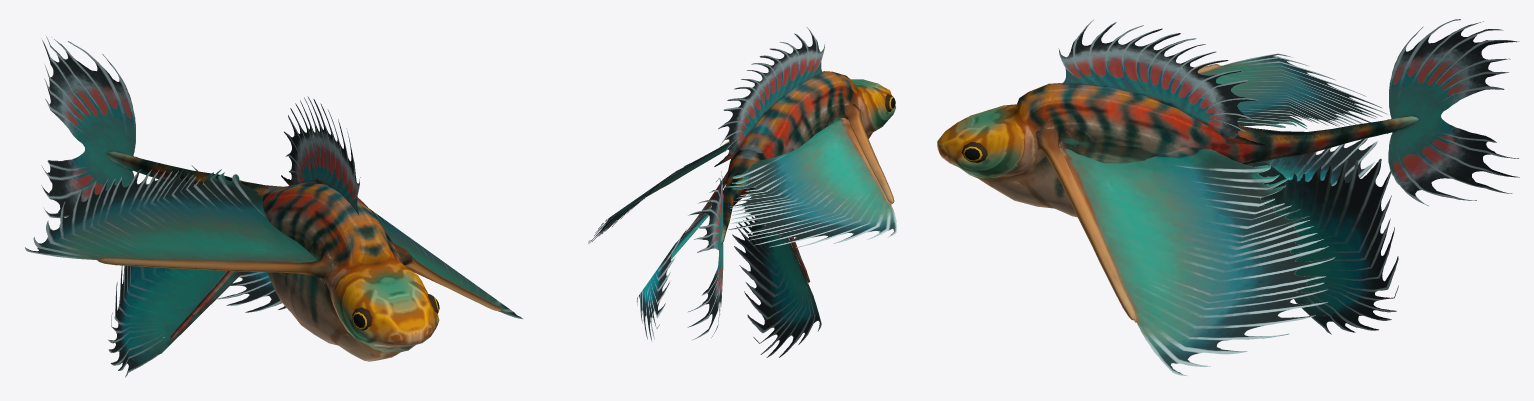
File: fish_000013.obj
3 views of the same model, side by side, from view 1: azimuth 30°, elevation 25°; view 2: azimuth 150°, elevation 25°; view 3: azimuth 270°, elevation 25° (orthographic). The views are drawn at different scales.
Visible parts, largest first — view 1: flyingFish_low_StingrayPBS1_0; view 2: flyingFish_low_StingrayPBS1_0; view 3: flyingFish_low_StingrayPBS1_0.
Part boxes in pixels (box(x1,y1,x2,y2)): flyingFish_low_StingrayPBS1_0: box(25, 35, 522, 377); flyingFish_low_StingrayPBS1_0: box(588, 27, 896, 357); flyingFish_low_StingrayPBS1_0: box(937, 19, 1519, 376).
Size of the model in its own units: 16.93 by 11.74 by 19.97.
1 material, 1 textured.
